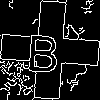B: (25, 25, 62, 73)
